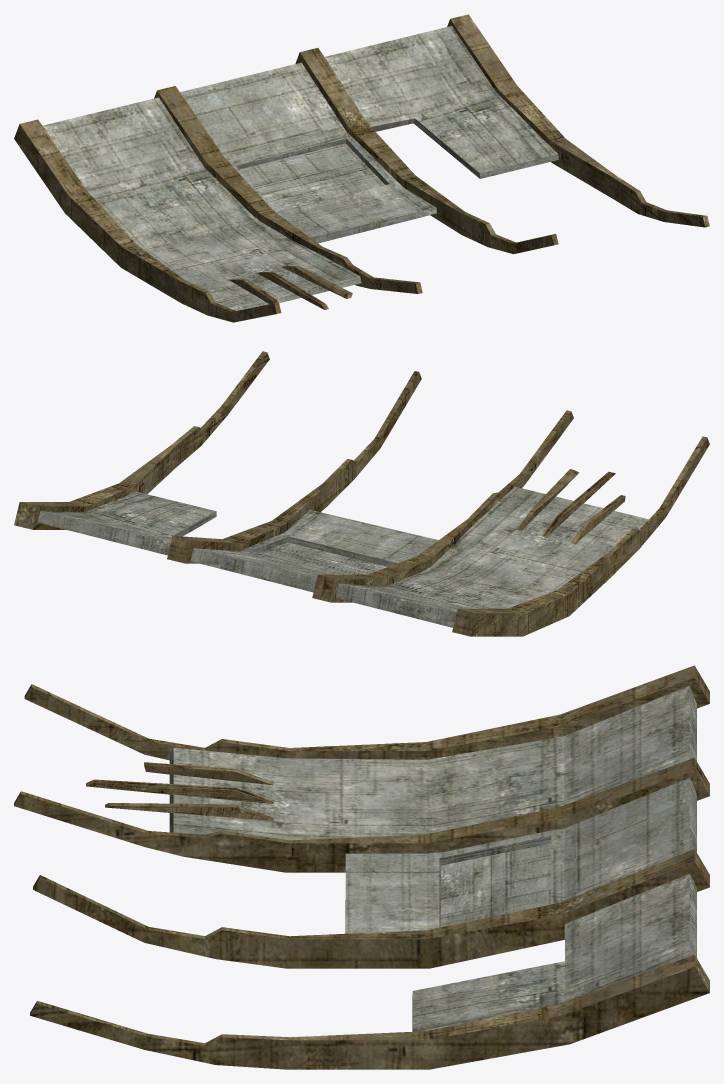
File: thm_prp_junk_s7_l0.fbx
The picture shows the model from 3 angles, top to bottom: view 1: azimuth 30°, elevation 25°; view 2: azimuth 150°, elevation 25°; view 3: azimuth 270°, elevation 25°; orthographic projection. The views are drawn at different scales.
Visible parts, largest first — view 1: mesh_node; view 2: mesh_node; view 3: mesh_node.
Boxes of the visible parts, x1=… form: mesh_node: x1=14, y1=14, x2=709, y2=322; mesh_node: x1=14, y1=351, x2=709, y2=636; mesh_node: x1=14, y1=665, x2=709, y2=1069.
Bounding box in the file's own units: 8.27 × 1.37 × 8.06.
